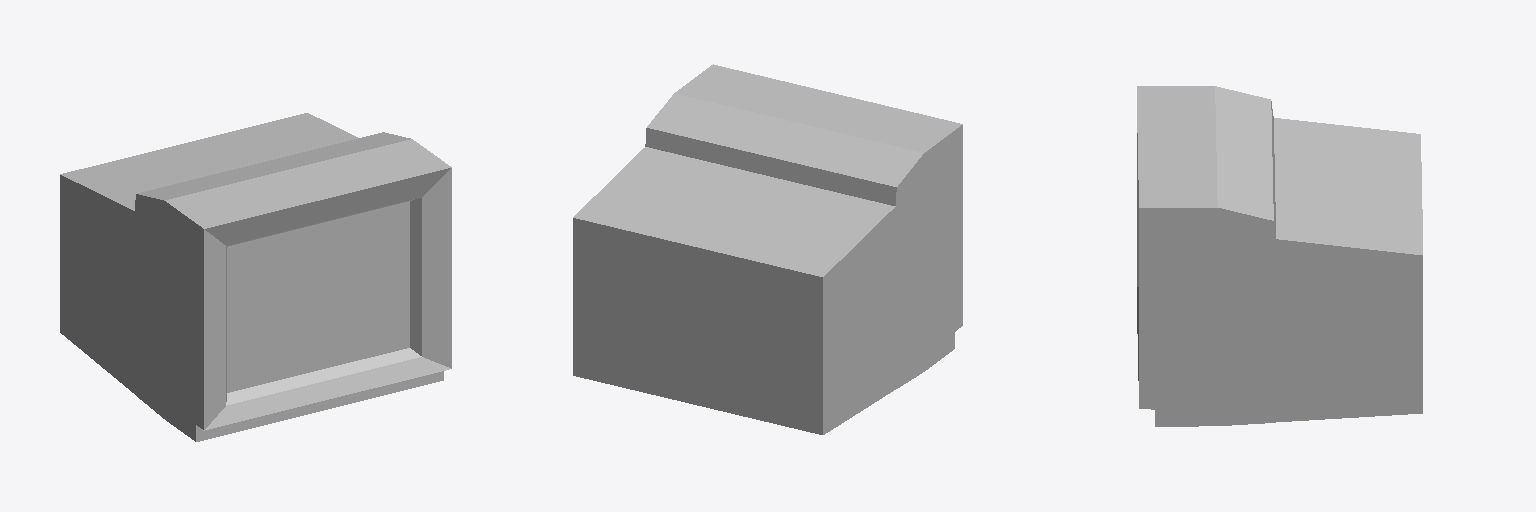
File: monitor.obj
The picture shows the model from 3 angles: view 1: azimuth 30°, elevation 25°; view 2: azimuth 150°, elevation 25°; view 3: azimuth 270°, elevation 25°; orthographic projection.
Visible parts, largest first — view 1: screen.005_Cube.071; view 2: screen.005_Cube.071; view 3: screen.005_Cube.071.
Part boxes in pixels (x1,y1,x2,y2): screen.005_Cube.071: (60, 113, 451, 441); screen.005_Cube.071: (573, 64, 962, 434); screen.005_Cube.071: (1137, 86, 1422, 426).
Bounding box in the file's own units: 0.4631 × 0.3856 × 0.4582.